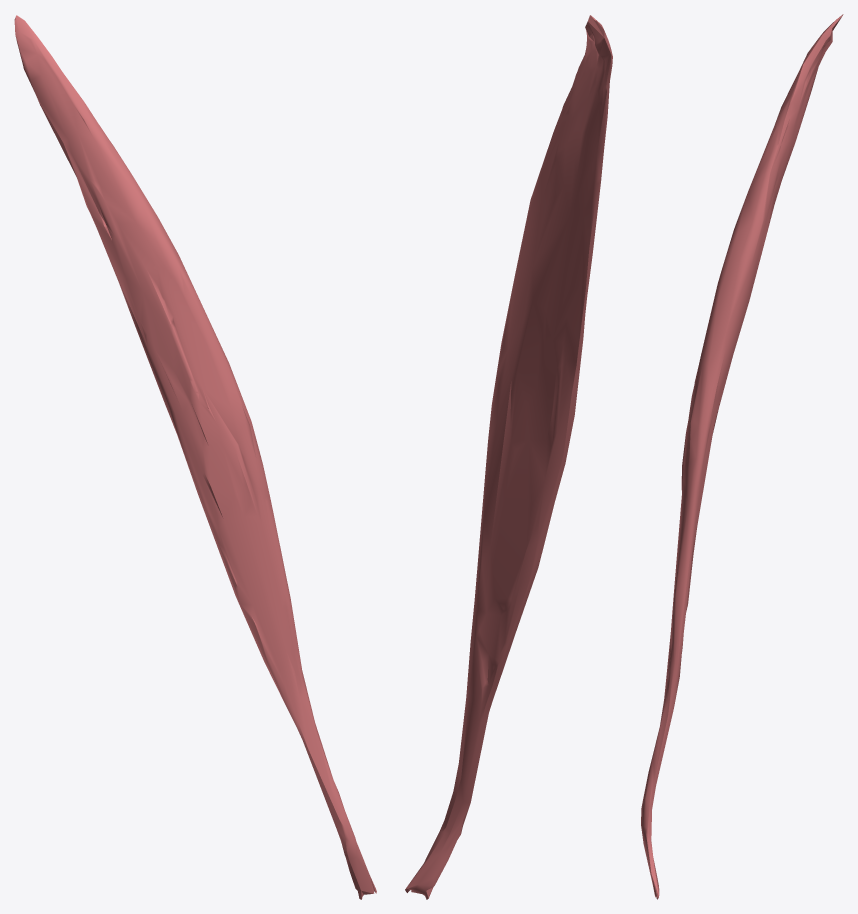
3 renders of one model, left to right at view 1: azimuth 30°, elevation 25°; view 2: azimuth 150°, elevation 25°; view 3: azimuth 270°, elevation 25°, orthographic. The views are drawn at different scales.
Parts seen in each view (by area): view 1: FJ1496M; view 2: FJ1496M; view 3: FJ1496M.
Part boxes in pixels (x1,y1,x2,y2): FJ1496M: [14, 15, 376, 899]; FJ1496M: [405, 15, 612, 899]; FJ1496M: [641, 14, 843, 899].
Size of the model in its own units: 0.0873 by 0.2753 by 0.0652.
